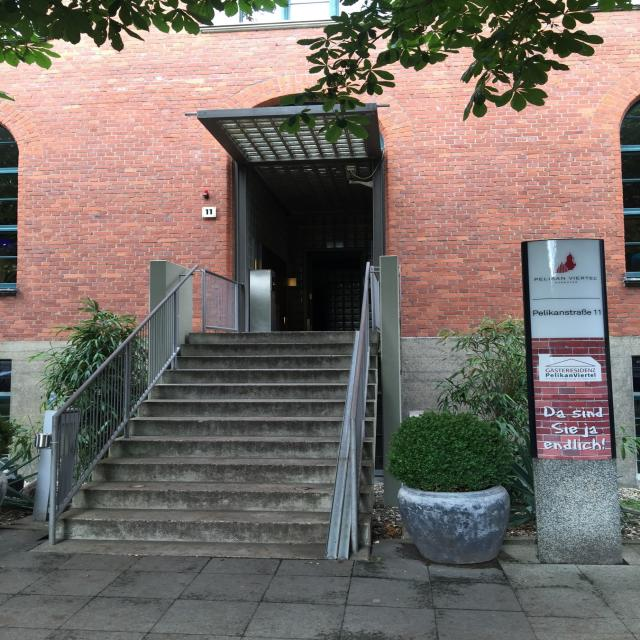AVOID: (49, 328, 350, 562)
